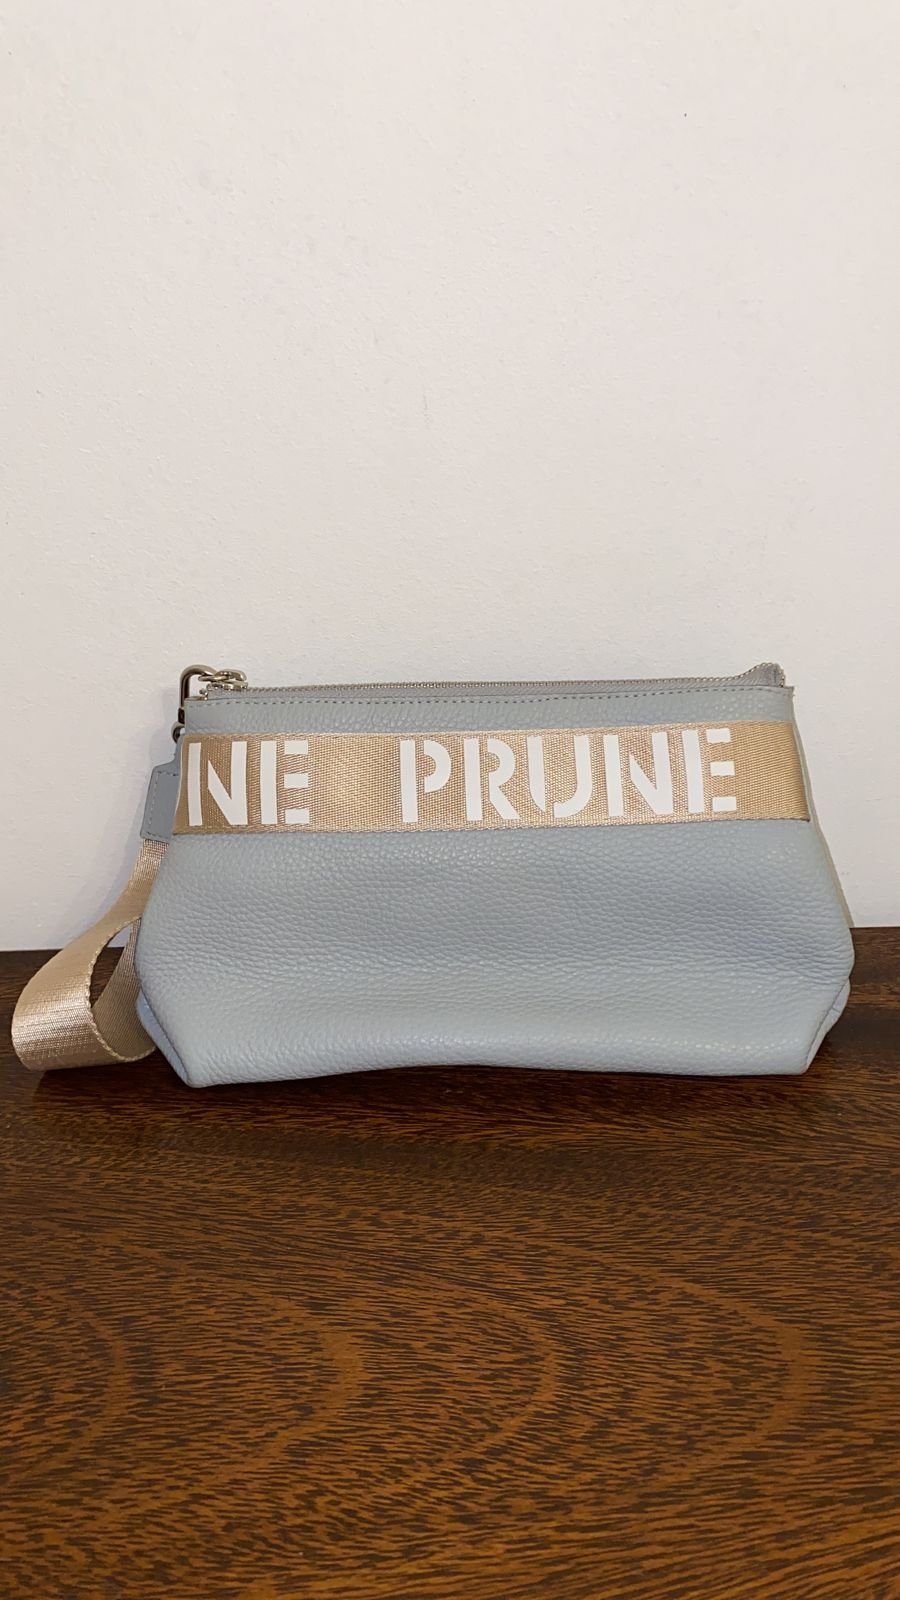cartera: (10, 649, 865, 1089)
cuero: (180, 868, 791, 1045)
